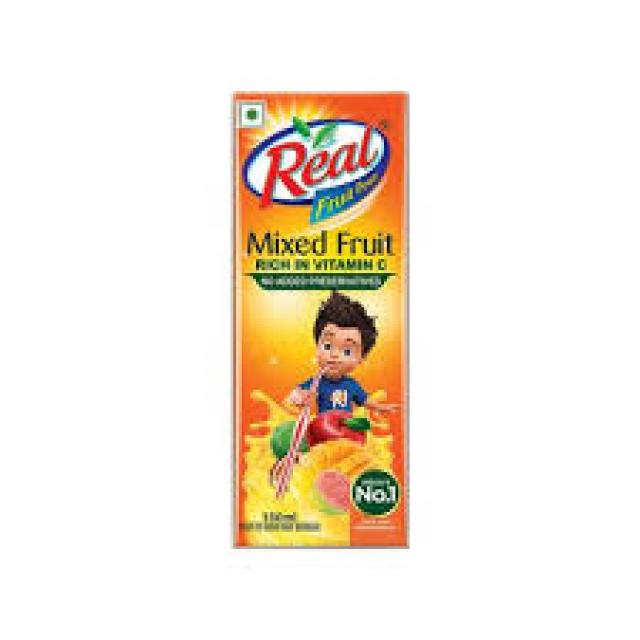non_white_jug: (219, 71, 444, 563)
